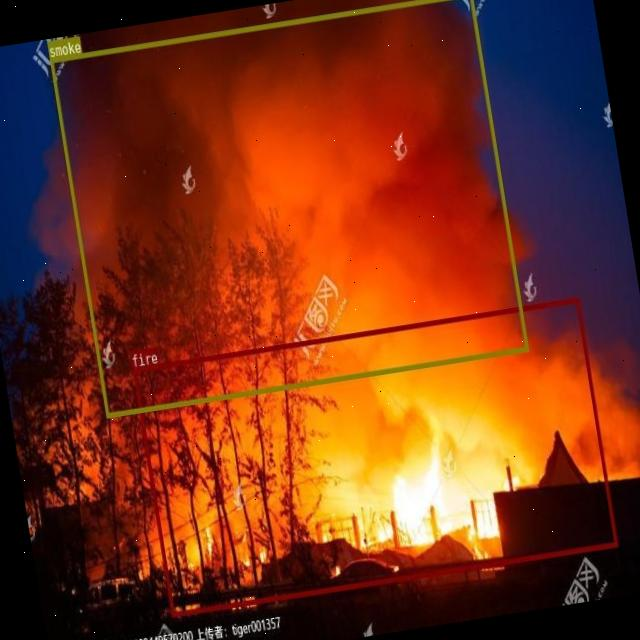fire: (132, 296, 617, 616)
smoke: (48, 0, 528, 416)
